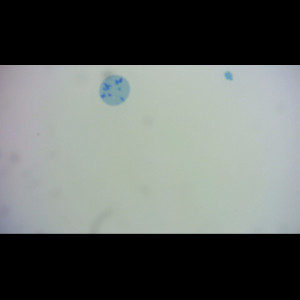aggregate reticulocyte: (97, 73, 132, 107)
